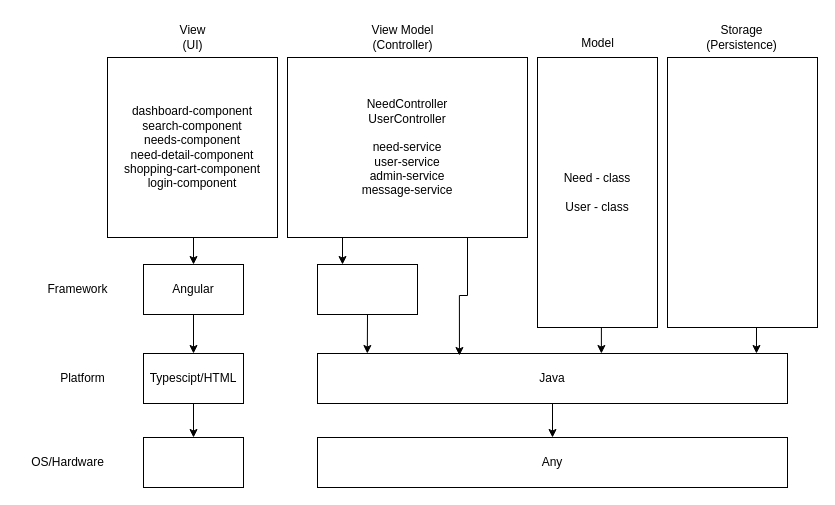
Some shapes in this 835 by 505 pixel diagram are drawn without their labels. The centre of each missing label's shape, as x and y in pixels:
"Browser" goes at pixel 193 462.
"NeedDAO - interface NeedFileDAO UserDAO - interface UserFileDAO" goes at pixel 742 192.
"Spring (Embedded Tomcat)" goes at pixel 367 289.
